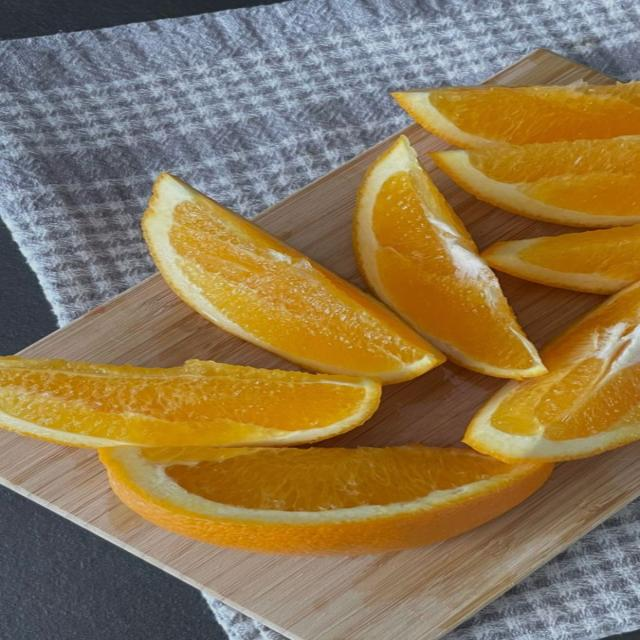orange: (144, 174, 444, 382), (100, 446, 551, 555), (354, 137, 546, 378), (0, 358, 380, 447), (464, 283, 639, 462), (431, 135, 639, 227), (393, 82, 639, 147), (482, 224, 639, 293)
